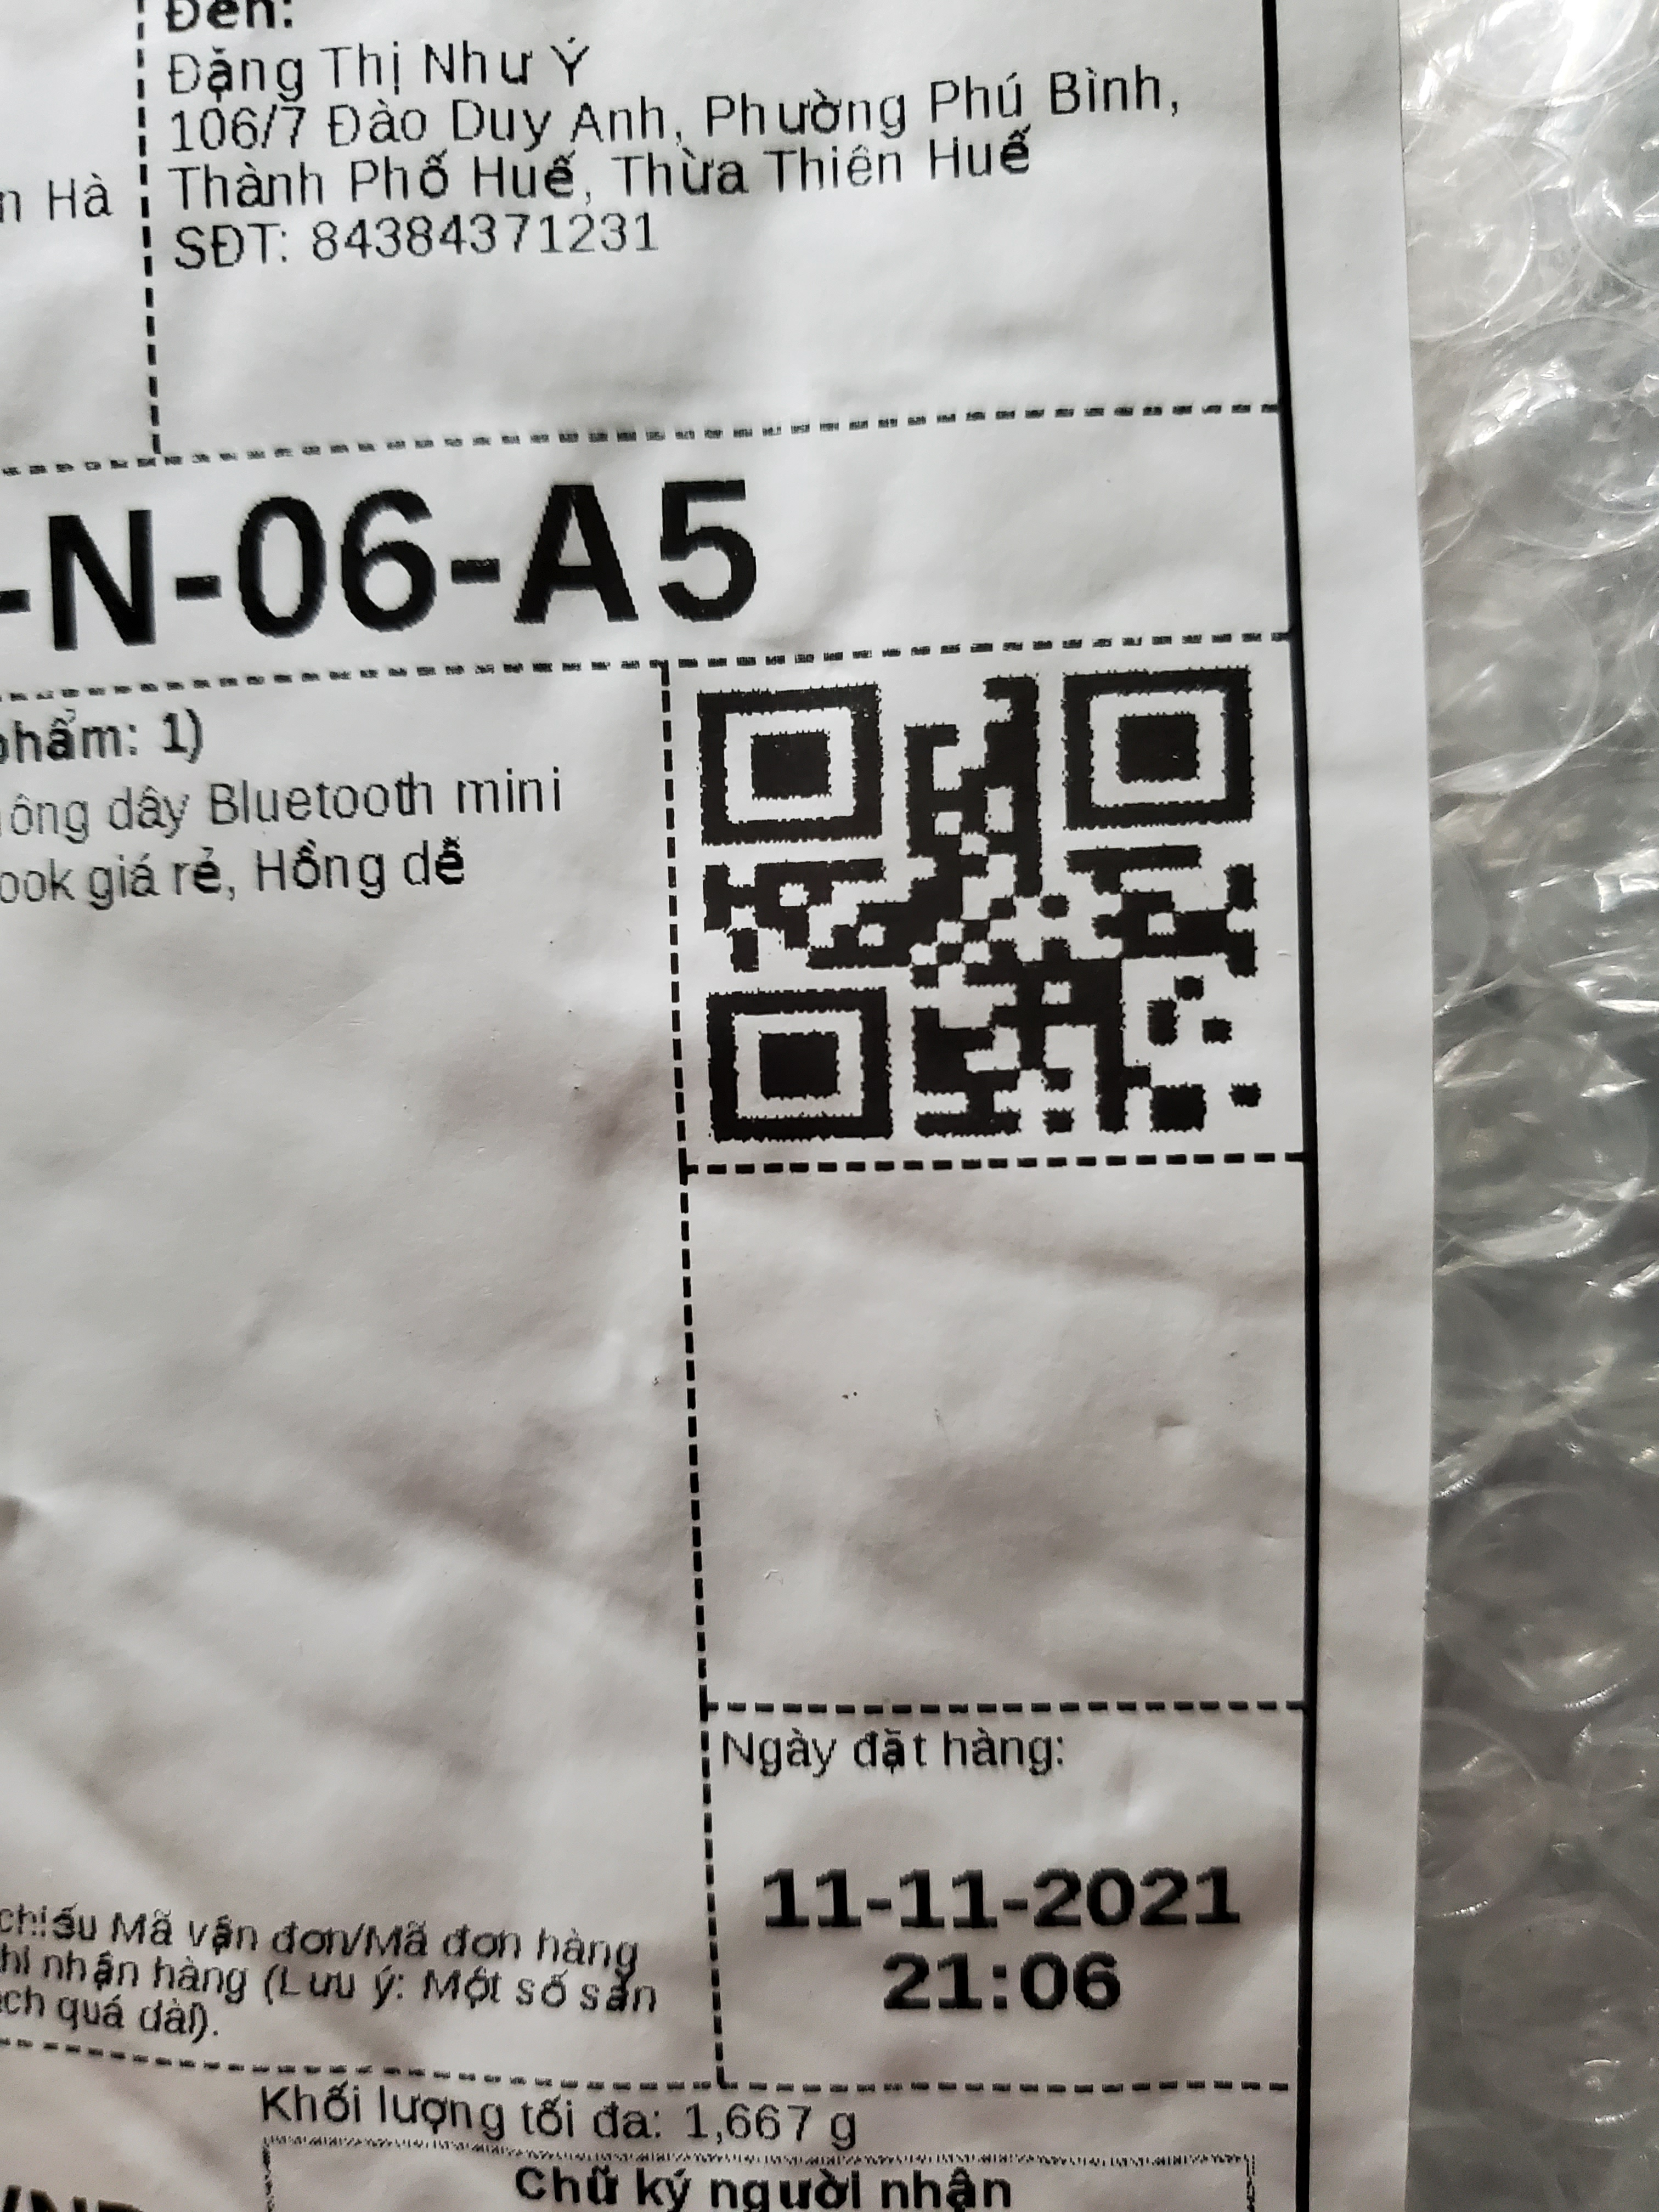qr code: (673, 667, 1298, 1170)
